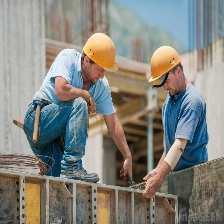helmet: (84, 33, 120, 74), (146, 47, 180, 85)
no-vest: (43, 51, 111, 117), (161, 94, 209, 172)
person: (22, 31, 137, 181), (141, 43, 210, 196)
